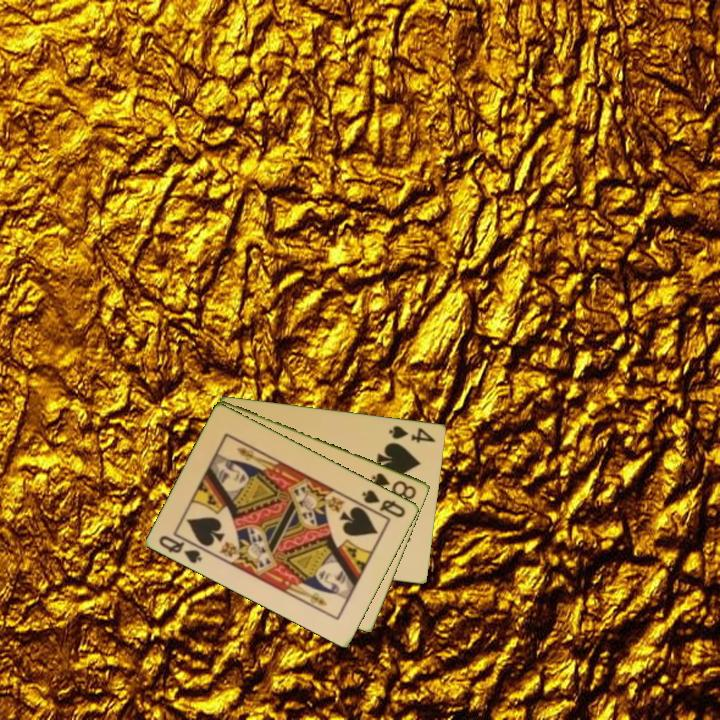4s: (386, 422, 439, 445)
8s: (368, 469, 419, 502)
Qs: (358, 486, 409, 520), (155, 532, 205, 566)
